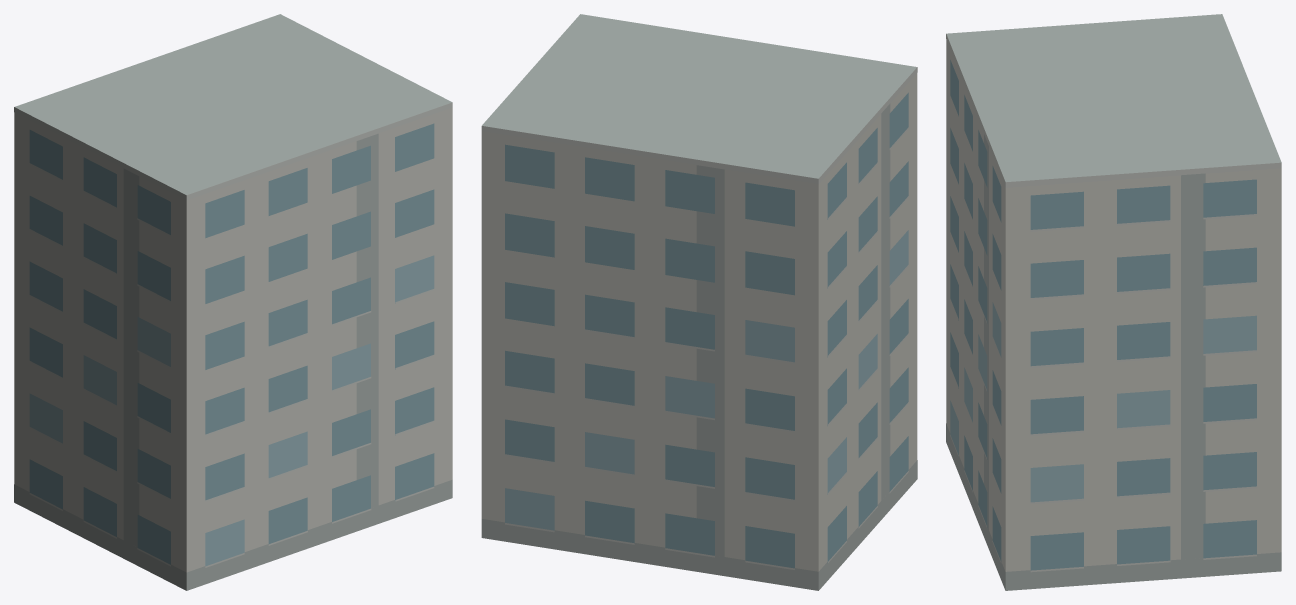
The model's file is survey-upis-32978726.glb.
3 renders of one model, left to right at view 1: azimuth 30°, elevation 25°; view 2: azimuth 150°, elevation 25°; view 3: azimuth 270°, elevation 25°, orthographic. The views are drawn at different scales.
Parts seen in each view (by area): view 1: survey-upis-32978726.tmp; view 2: survey-upis-32978726.tmp; view 3: survey-upis-32978726.tmp.
Part boxes in pixels (bbox=[...]): survey-upis-32978726.tmp: bbox=[14, 14, 452, 590]; survey-upis-32978726.tmp: bbox=[481, 14, 917, 590]; survey-upis-32978726.tmp: bbox=[946, 14, 1281, 590].
Bounding box in the file's own units: 16.16 × 18.3 × 13.62.
